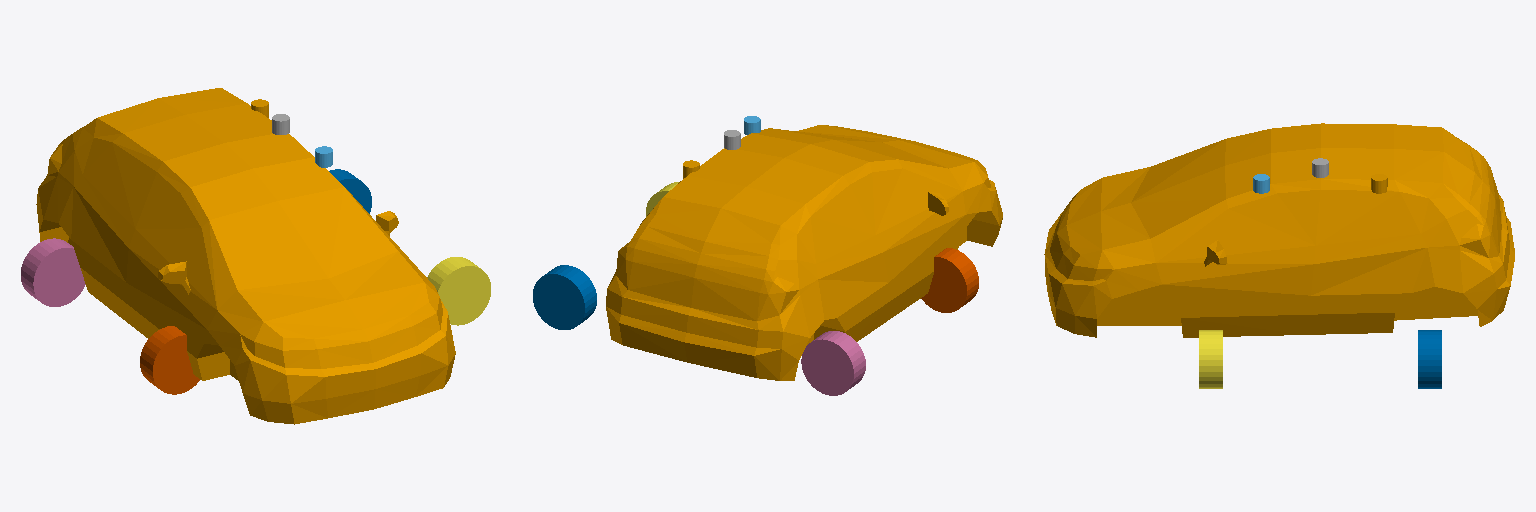
robot.urdf — ADcar_model:
<robot name="ADcar_model">

  <!-- Chassis -->
  <link name="chassis">
    <visual>
      <geometry>
        <mesh filename="package://ADcar_model/meshes/hatchback.obj" scale="0.0254 0.0254 0.0254"/>
      </geometry>
    </visual>
    <collision>
      <geometry>
        <mesh filename="package://ADcar_model/meshes/hatchback.obj" scale="0.0254 0.0254 0.0254"/>
      </geometry>
    </collision>
    <inertial>
      <mass value="1200"/>
      <origin xyz="0 0 0" rpy="0 0 0"/>
      <inertia ixx="400" ixy="0" ixz="0" iyy="1200" iyz="0" izz="1400"/>
    </inertial>
  </link>

  <!-- Front Steering Links -->
  <link name="front_left_wheel_steer">
    <visual>
      <geometry>
        <cylinder radius="0.05" length="0.2"/>
      </geometry>
      <material name="gray">
        <color rgba="0.5 0.5 0.5 1"/>
      </material>
    </visual>
    <collision>
      <geometry>
        <cylinder radius="0.05" length="0.2"/>
      </geometry>
    </collision>
    <inertial>
      <mass value="1.0"/>
      <origin xyz="0 0 0" rpy="0 0 0"/>
      <inertia ixx="0.01" ixy="0" ixz="0" iyy="0.01" iyz="0" izz="0.01"/>
    </inertial>
  </link>

  <link name="front_right_wheel_steer">
    <visual>
      <geometry>
        <cylinder radius="0.05" length="0.2"/>
      </geometry>
      <material name="gray">
        <color rgba="0.5 0.5 0.5 1"/>
      </material>
    </visual>
    <collision>
      <geometry>
        <cylinder radius="0.05" length="0.2"/>
      </geometry>
    </collision>
    <inertial>
      <mass value="1.0"/>
      <origin xyz="0 0 0" rpy="0 0 0"/>
      <inertia ixx="0.01" ixy="0" ixz="0" iyy="0.01" iyz="0" izz="0.01"/>
    </inertial>
  </link>

  <!-- Wheels -->
  <link name="front_right_wheel">
    <visual>
      <geometry>
        <cylinder radius="0.25" length="0.2"/>
      </geometry>
    </visual>
    <collision>
      <geometry>
        <cylinder radius="0.25" length="0.2"/>
      </geometry>
    </collision>
    <inertial>
      <mass value="20"/>
      <origin xyz="0 0 0" rpy="0 0 0"/>
      <inertia ixx="0.6" ixy="0" ixz="0" iyy="0.6" iyz="0" izz="0.6"/>
    </inertial>
  </link>

  <link name="front_left_wheel">
    <visual>
      <geometry>
        <cylinder radius="0.25" length="0.2"/>
      </geometry>
    </visual>
    <collision>
      <geometry>
        <cylinder radius="0.25" length="0.2"/>
      </geometry>
    </collision>
    <inertial>
      <mass value="20"/>
      <origin xyz="0 0 0" rpy="0 0 0"/>
      <inertia ixx="0.6" ixy="0" ixz="0" iyy="0.6" iyz="0" izz="0.6"/>
    </inertial>
  </link>

  <link name="rear_right_wheel">
    <visual>
      <geometry>
        <cylinder radius="0.25" length="0.2"/>
      </geometry>
    </visual>
    <collision>
      <geometry>
        <cylinder radius="0.25" length="0.2"/>
      </geometry>
    </collision>
    <inertial>
      <mass value="20"/>
      <origin xyz="0 0 0" rpy="0 0 0"/>
      <inertia ixx="0.6" ixy="0" ixz="0" iyy="0.6" iyz="0" izz="0.6"/>
    </inertial>
  </link>

  <link name="rear_left_wheel">
    <visual>
      <geometry>
        <cylinder radius="0.25" length="0.2"/>
      </geometry>
    </visual>
    <collision>
      <geometry>
        <cylinder radius="0.25" length="0.2"/>
      </geometry>
    </collision>
    <inertial>
      <mass value="20"/>
      <origin xyz="0 0 0" rpy="0 0 0"/>
      <inertia ixx="0.6" ixy="0" ixz="0" iyy="0.6" iyz="0" izz="0.6"/>
    </inertial>
  </link>

  <!-- LIDAR WIDE-->
  <link name="lidar_3d_link">
    <visual>
      <geometry>
        <cylinder radius="0.07" length="0.12"/>
      </geometry>
    </visual>
    <collision>
      <geometry>
        <cylinder radius="0.07" length="0.12"/>
      </geometry>
    </collision>
    <inertial>
      <mass value="0.5"/>
      <origin xyz="0 0 0" rpy="0 0 0"/>
      <inertia ixx="0.001" ixy="0" ixz="0" iyy="0.001" iyz="0" izz="0.001"/>
    </inertial>
  </link>

  <!-- LIDAR far_left-->
  <link name="lidar_3d_far_left_link">
    <visual>
      <geometry>
        <cylinder radius="0.07" length="0.12"/>
      </geometry>
    </visual>
    <collision>
      <geometry>
        <cylinder radius="0.07" length="0.12"/>
      </geometry>
    </collision>
    <inertial>
      <mass value="0.5"/>
      <origin xyz="0 0 0" rpy="0 0 0"/>
      <inertia ixx="0.001" ixy="0" ixz="0" iyy="0.001" iyz="0" izz="0.001"/>
    </inertial>
  </link>

  <!-- LIDAR far_right-->
  <link name="lidar_3d_far_right_link">
    <visual>
      <geometry>
        <cylinder radius="0.07" length="0.12"/>
      </geometry>
    </visual>
    <collision>
      <geometry>
        <cylinder radius="0.07" length="0.12"/>
      </geometry>
    </collision>
    <inertial>
      <mass value="0.5"/>
      <origin xyz="0 0 0" rpy="0 0 0"/>
      <inertia ixx="0.001" ixy="0" ixz="0" iyy="0.001" iyz="0" izz="0.001"/>
    </inertial>
  </link>

  <!-- Joints -->

  <!-- Front Left Steering -->
  <joint name="front_left_steer_joint" type="revolute">
    <parent link="chassis"/>
    <child link="front_left_wheel_steer"/>
    <origin xyz="1.55 0.93 0.3" rpy="0 0 0"/>
    <axis xyz="0 0 1"/>
    <limit lower="-0.5" upper="0.5" effort="10" velocity="1.0"/>
  </joint>

  <!-- Front Left Wheel -->
  <joint name="front_left_wheel_joint" type="continuous">
    <parent link="front_left_wheel_steer"/>
    <child link="front_left_wheel"/>
    <origin xyz="0 0 0" rpy="0 1.5707 1.5707"/>
    <axis xyz="0 0 1"/>
  </joint>

  <!-- Front Right Steering -->
  <joint name="front_right_steer_joint" type="revolute">
    <parent link="chassis"/>
    <child link="front_right_wheel_steer"/>
    <origin xyz="1.55 -0.93 0.3" rpy="0 0 0"/>
    <axis xyz="0 0 1"/>
    <limit lower="-0.5" upper="0.5" effort="10" velocity="1.0"/>
  </joint>

  <!-- Front Right Wheel -->
  <joint name="front_right_wheel_joint" type="continuous">
    <parent link="front_right_wheel_steer"/>
    <child link="front_right_wheel"/>
    <origin xyz="0 0 0" rpy="0 1.5707 1.5707"/>
    <axis xyz="0 0 1"/>
  </joint>

  <!-- Rear Wheels -->
  <joint name="rear_left_wheel_joint" type="continuous">
    <parent link="chassis"/>
    <child link="rear_left_wheel"/>
    <origin xyz="-1.0 0.93 0.3" rpy="0 1.5707 1.5707"/>
    <axis xyz="0 0 1"/>
  </joint>

  <joint name="rear_right_wheel_joint" type="continuous">
    <parent link="chassis"/>
    <child link="rear_right_wheel"/>
    <origin xyz="-1.0 -0.93 0.3" rpy="0 1.5707 1.5707"/>
    <axis xyz="0 0 1"/>
  </joint>

<!-- WIDE LIDAR -->
  <!-- LIDAR Joint -->
  <joint name="lidar_3d_joint" type="fixed">
    <parent link="chassis"/>
    <child link="lidar_3d_link"/>
    <origin xyz="0.5 0 1.6" rpy="0 0 0"/>
  </joint>
  <!-- base_scan frame -->
  <link name="base_scan"/>
  <joint name="base_scan_joint" type="fixed">
  <parent link="chassis"/>
  <child link="base_scan"/>
  <origin xyz="0.5 0 1.6" rpy="0 0 0"/>
</joint>


<!-- far_left LIDAR -->
  <!-- LIDAR Joint -->
  <joint name="lidar_3d_far_left_joint" type="fixed">
    <parent link="chassis"/>
    <child link="lidar_3d_far_left_link"/>
    <origin xyz="0.6 0.5 1.5" rpy="0 0 0"/>
  </joint>
  <!-- base_scan_far_left frame -->
  <link name="base_scan_far_left"/>
  <joint name="base_scan_far_left_joint" type="fixed">
  <parent link="chassis"/>
  <child link="base_scan_far_left"/>
  <origin xyz="0.6 0.5 1.5" rpy="0 0 0"/>
</joint>

<!-- far_right LIDAR -->
  <!-- LIDAR Joint -->
  <joint name="lidar_3d_far_right_joint" type="fixed">
    <parent link="chassis"/>
    <child link="lidar_3d_far_right_link"/>
    <origin xyz="0.6 -0.5 1.5" rpy="0 0 0"/>
  </joint>
  <!-- base_scan_far_right frame -->
  <link name="base_scan_far_right"/>
  <joint name="base_scan_far_right_joint" type="fixed">
  <parent link="chassis"/>
  <child link="base_scan_far_right"/>
  <origin xyz="0.6 -0.5 1.5" rpy="0 0 0"/>
</joint>




</robot>

--- What the picture shows (computed from the rendered views, not written in the file) ---
Views: 3 orthographic renders of the robot side by side, from view 1: azimuth 30°, elevation 25°; view 2: azimuth 150°, elevation 25°; view 3: azimuth 270°, elevation 25°.
Robot: ADcar_model — 13 links, 12 joints (2 revolute, 4 continuous, 6 fixed); root link chassis; default pose: all joints at 0.
Links seen in each view (by area): view 1: chassis, rear_left_wheel, front_right_wheel, rear_right_wheel, front_left_wheel; view 2: chassis, rear_left_wheel, front_left_wheel, rear_right_wheel; view 3: chassis, front_right_wheel, front_left_wheel.
Boxes of the visible links, left/top/right/bottom form: chassis: left=36, top=88, right=455, bottom=424; rear_left_wheel: left=21, top=238, right=85, bottom=306; front_right_wheel: left=427, top=257, right=490, bottom=325; rear_right_wheel: left=140, top=326, right=199, bottom=394; front_left_wheel: left=329, top=169, right=371, bottom=213; chassis: left=606, top=125, right=1002, bottom=380; rear_left_wheel: left=801, top=331, right=865, bottom=395; front_left_wheel: left=533, top=265, right=596, bottom=329; rear_right_wheel: left=921, top=248, right=978, bottom=312; chassis: left=1044, top=123, right=1514, bottom=337; front_right_wheel: left=1199, top=330, right=1222, bottom=388; front_left_wheel: left=1418, top=330, right=1441, bottom=388.
Size in the robot's own frame: 3.05 by 4 by 1.61 metres.
Meshes: 1 distinct files referenced, 1 mesh visuals loaded (1 OBJ).